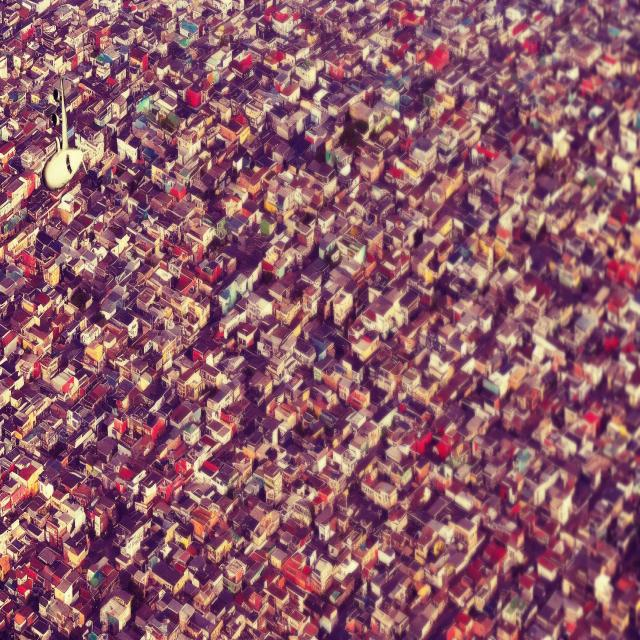airplane: (42, 74, 86, 192)
